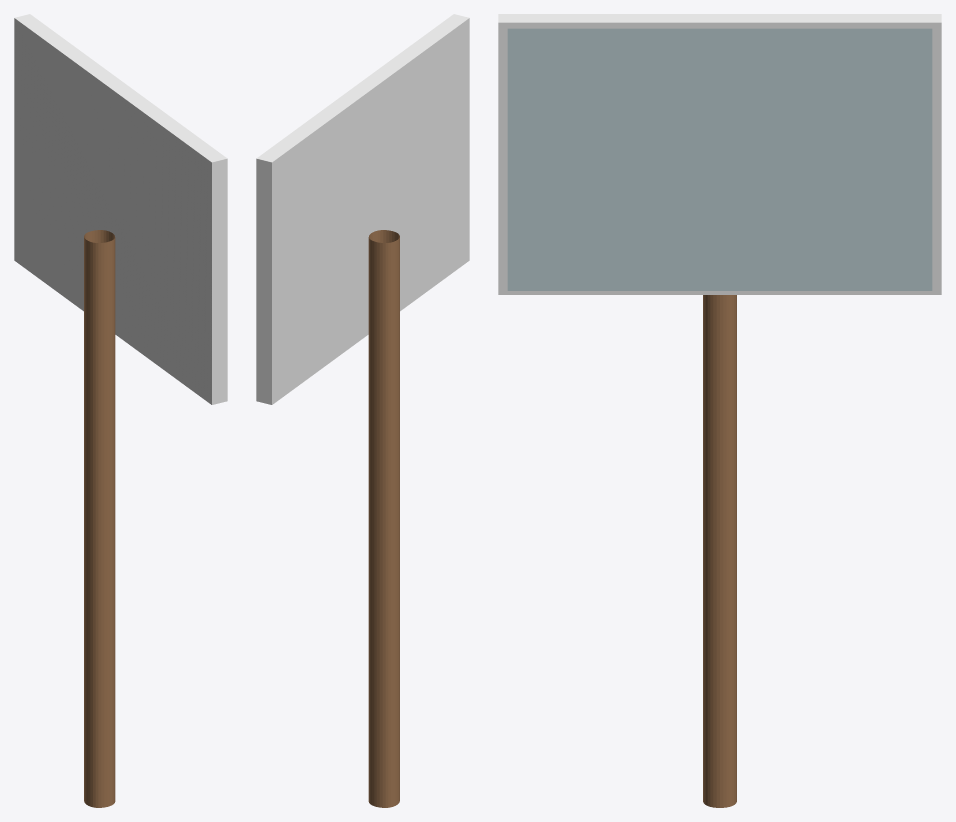
Rendered from board.fbx.
3 views of the same model, side by side, from view 1: azimuth 30°, elevation 25°; view 2: azimuth 150°, elevation 25°; view 3: azimuth 270°, elevation 25° (orthographic). The views are drawn at different scales.
Visible parts, largest first — view 1: Board, Pole; view 2: Board, Pole; view 3: Graphic, Pole, Board.
Boxes of the visible parts, x1,y1,x2,y2 form: Board: (14, 14, 227, 404); Pole: (84, 230, 115, 807); Board: (256, 14, 469, 404); Pole: (368, 230, 399, 807); Graphic: (507, 28, 932, 290); Pole: (703, 295, 736, 807); Board: (498, 14, 941, 294).
Bounding box in the file's own units: 45.62 × 714 × 361.
